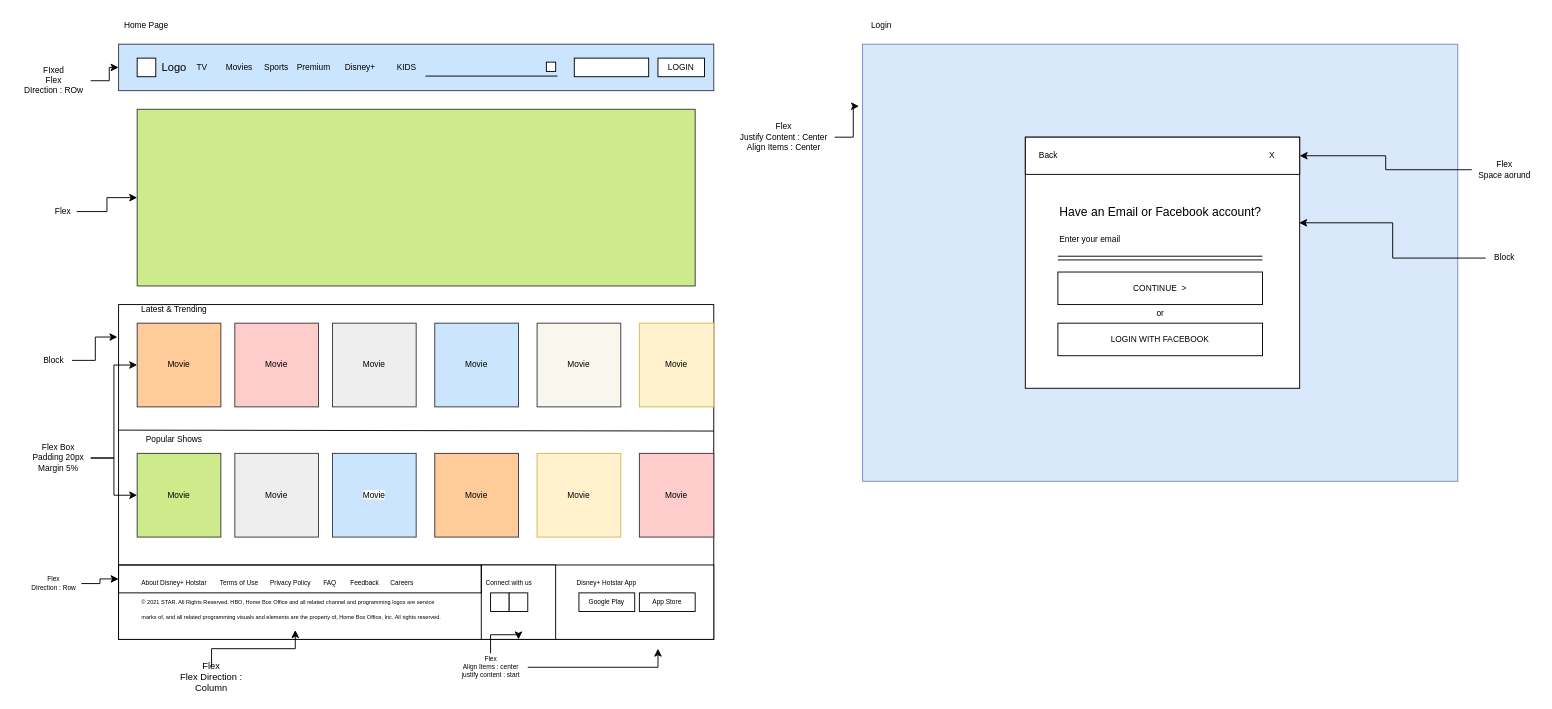
Some shapes in this 1552 by 709 pixel diagram are drawn without their labels. The box of each missing label's shape, as (x1, y1, x2, y2) in pixels:
Carousal: (136, 108, 695, 286)
SUBSCRIBE: (573, 57, 649, 77)
